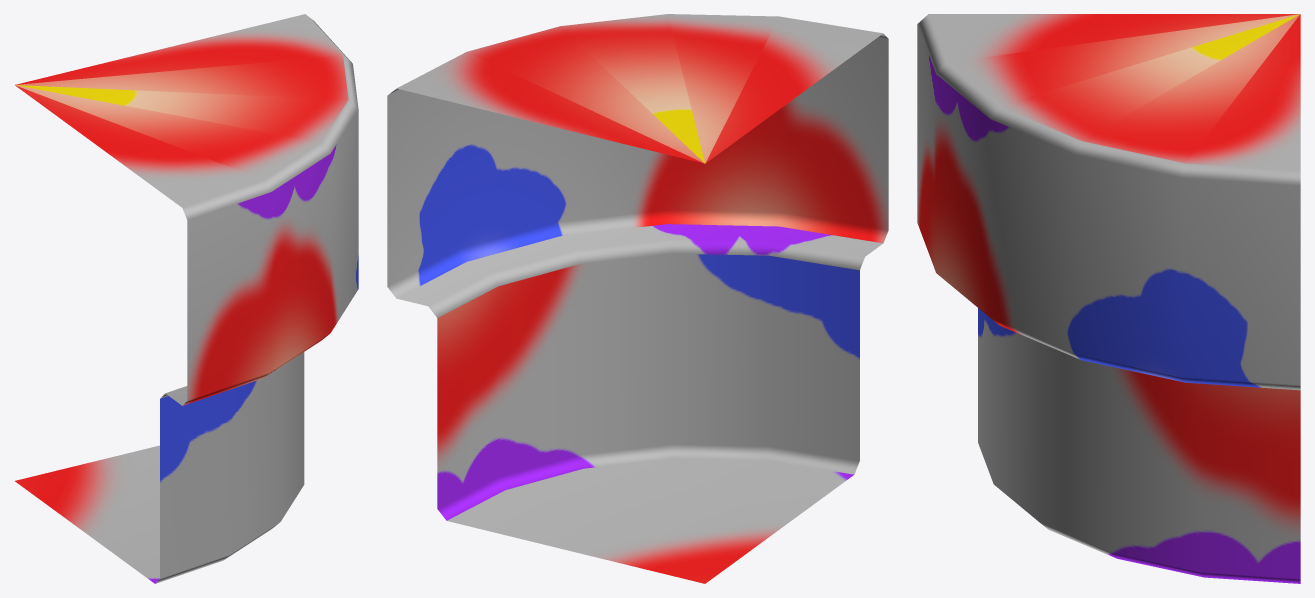
File: SM_SS01_Cornice_Corner.fbx
3 renders of one model, left to right at view 1: azimuth 30°, elevation 25°; view 2: azimuth 150°, elevation 25°; view 3: azimuth 270°, elevation 25°, orthographic. The views are drawn at different scales.
Visible parts, largest first — view 1: SM_SS01_Cornice_Corner; view 2: SM_SS01_Cornice_Corner; view 3: SM_SS01_Cornice_Corner.
Boxes of the visible parts, x1,y1,x2,y2 form: SM_SS01_Cornice_Corner: (15, 14, 358, 583); SM_SS01_Cornice_Corner: (387, 14, 888, 583); SM_SS01_Cornice_Corner: (917, 14, 1300, 583).
Size of the model in its own units: 158 by 200 by 158.
